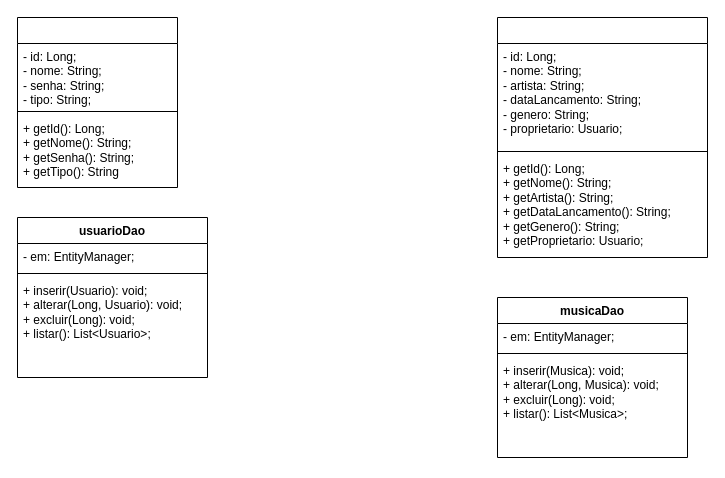
Some shapes in this 725 by 478 pixel diagram are drawn without their labels. The box of each missing label's shape, as (x1, y1, x2, y2) in pixels:
Musica: (496, 16, 708, 258)
Usuario: (16, 16, 178, 188)
